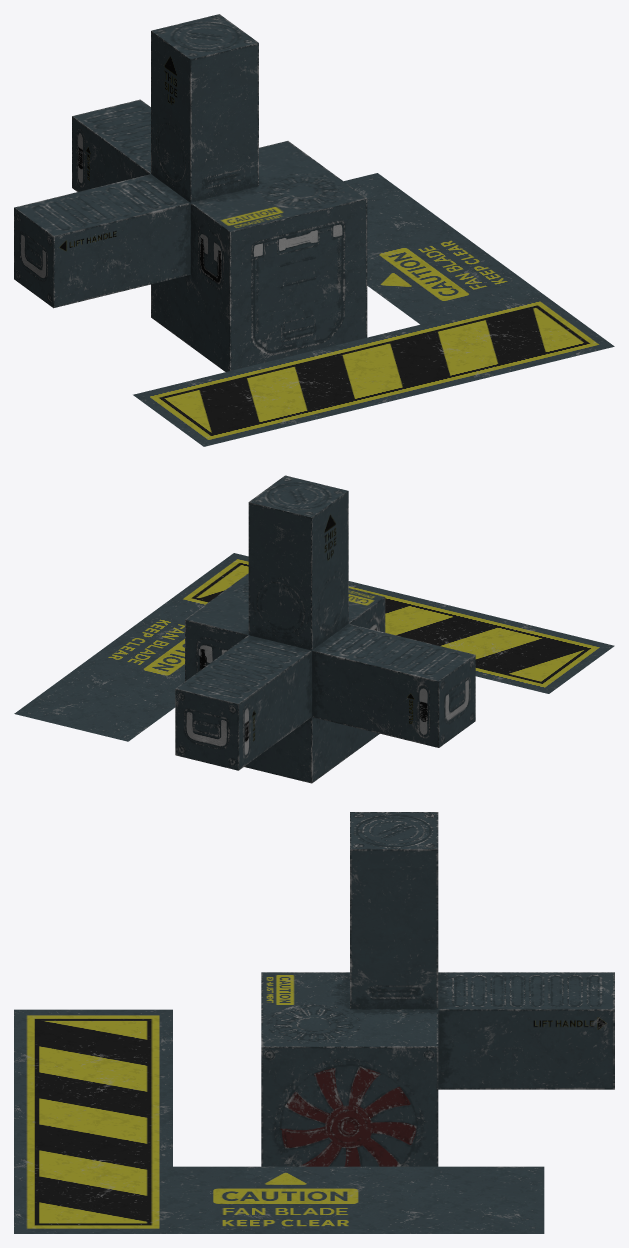
The model's file is Node_Attribute_04.gltf.
The picture shows the model from 3 angles, top to bottom: view 1: azimuth 30°, elevation 25°; view 2: azimuth 150°, elevation 25°; view 3: azimuth 270°, elevation 25°; orthographic projection. The views are drawn at different scales.
Parts seen in each view (by area): view 1: Node1, Node0; view 2: Node1, Node0; view 3: Node1, Node0.
Part boxes in pixels (x1=…): Node1: x1=14, y1=14, x2=367, y2=371; Node0: x1=133, y1=173, x2=614, y2=446; Node1: x1=175, y1=475, x2=475, y2=783; Node0: x1=14, y1=553, x2=614, y2=741; Node1: x1=261, y1=812, x2=614, y2=1166; Node0: x1=14, y1=1009, x2=544, y2=1233.
Bounding box in the file's own units: 15 × 10 × 17.
Materials: 2 (2 with a texture image).
